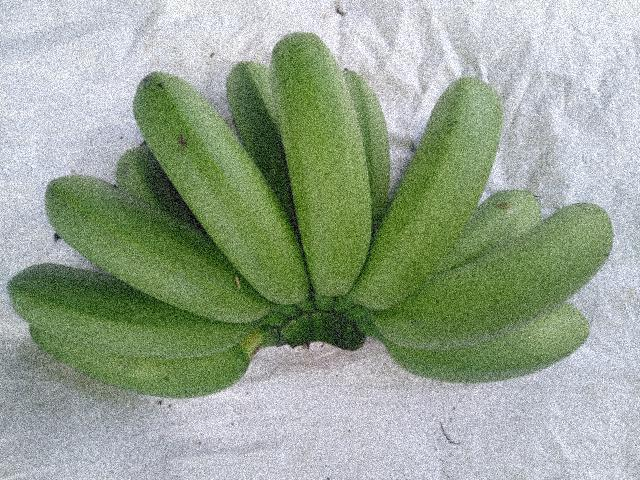freshunripe: (350, 67, 506, 319), (259, 20, 383, 320), (33, 169, 282, 318), (394, 193, 632, 337), (0, 258, 240, 369), (364, 305, 615, 395)
unripe: (123, 65, 312, 309)
